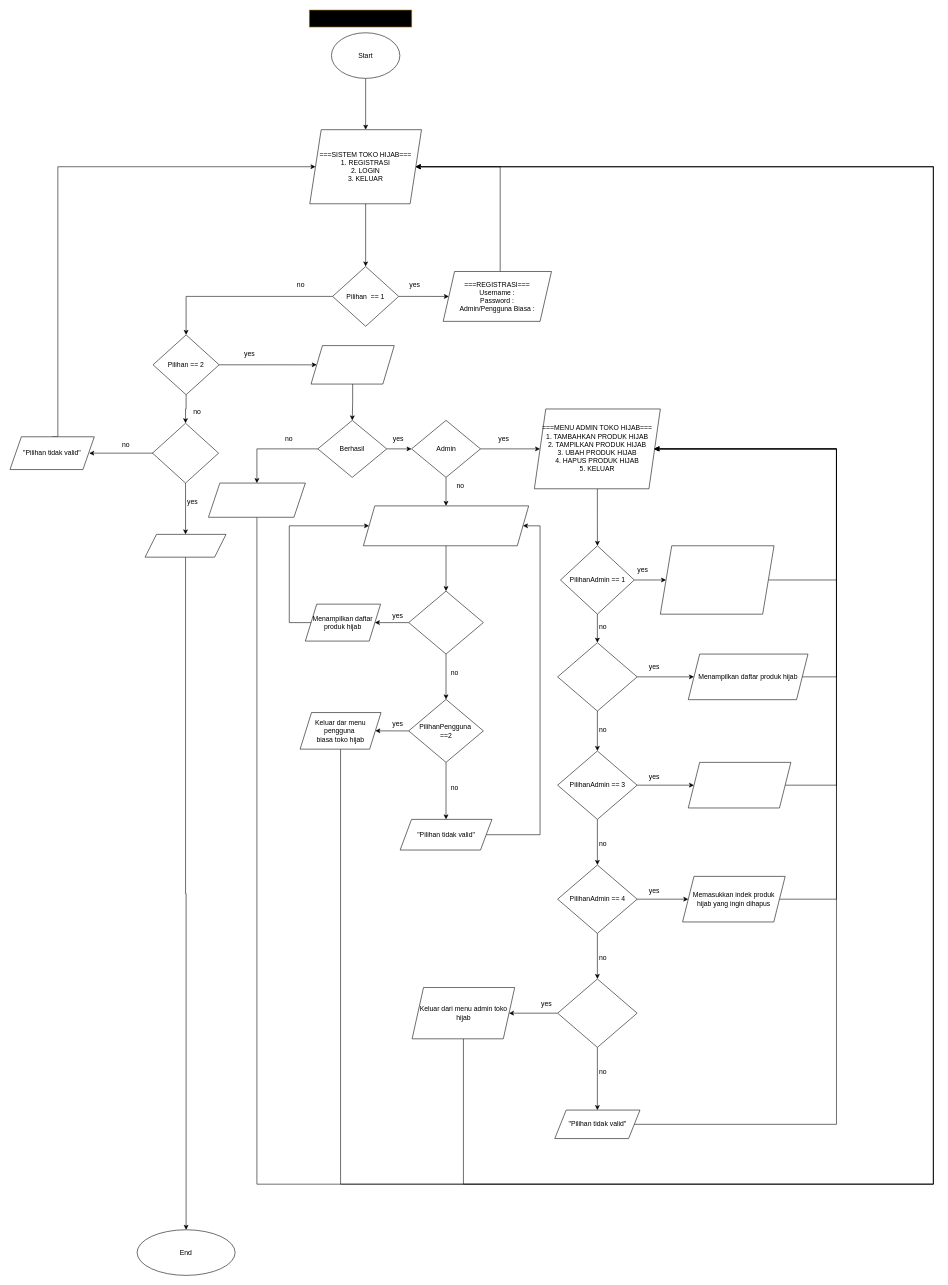
Some shapes in this 948 by 1285 pixel diagram are drawn without their labels. Each missing label, with the box of its shape:
"Username atau passwor salah" atau "Username sudah terdaftar": (208, 483, 305, 517)
===LOGIN=== Username : Password :: (310, 345, 394, 384)
===MENU PENGGUNA BIASA TOKO HIJAB=== 1. MENAMPILKAN PRODUK HIJAB 2. KELUAR: (363, 505, 529, 546)
===TAMBAHKAN PRODUK HIJAB=== Nama : Warna : Stok : Harga :: (660, 545, 774, 614)
FLOWCHART TOKO HIJAB: (309, 9, 412, 27)
Keluar dari program: (144, 534, 226, 557)
Memasukan indek produk hijab yang ingin dirubah: (688, 762, 791, 808)
Pilihan == 3: (152, 423, 219, 483)
PilihanAdmin == 2: (557, 642, 637, 711)
PilihanAdmin == 5: (557, 978, 637, 1047)
PilihanPengguna == 1: (408, 591, 483, 654)
